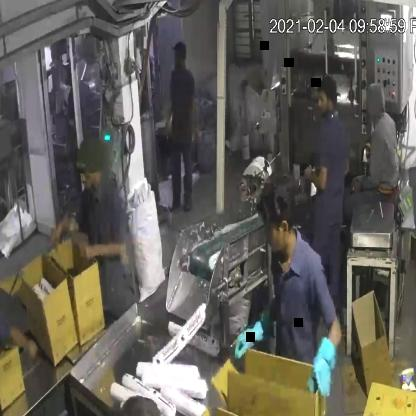glove: (303, 308, 344, 414), (227, 295, 287, 360)
no_glove: (0, 301, 41, 368), (77, 233, 135, 276), (297, 148, 339, 201), (46, 202, 84, 250)
